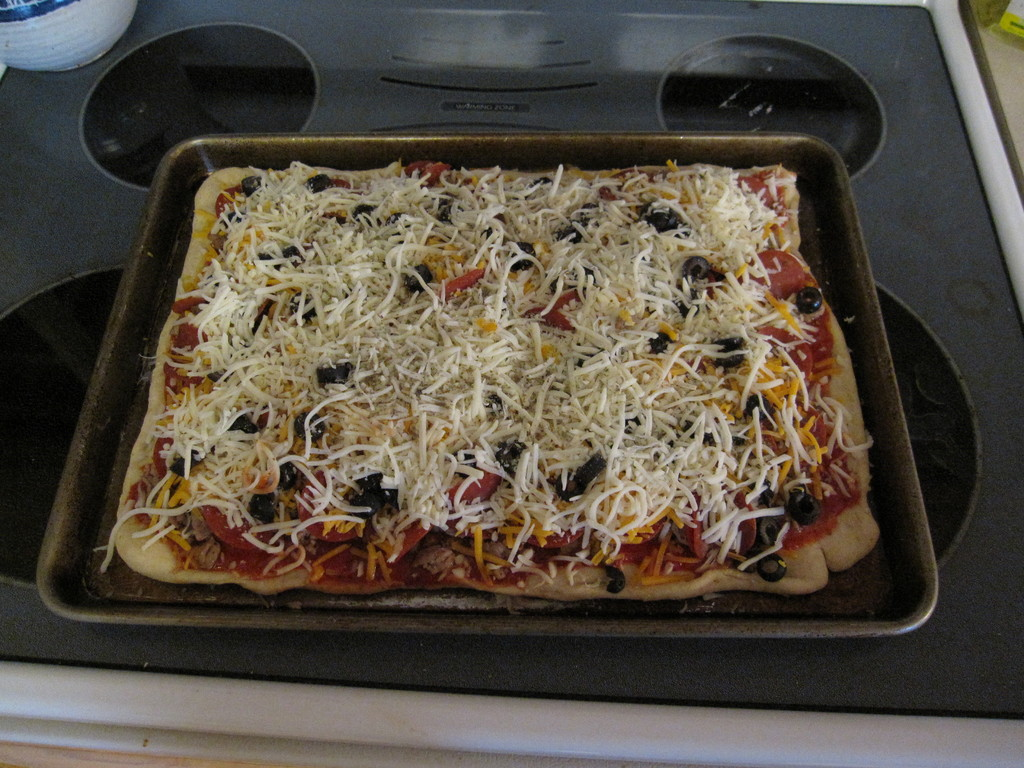Pizza: (102, 156, 892, 635)
